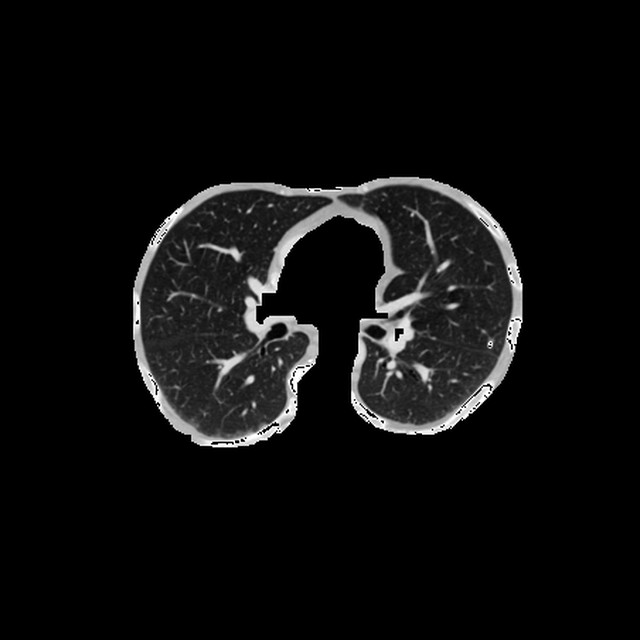PN: (486, 340, 494, 348)
